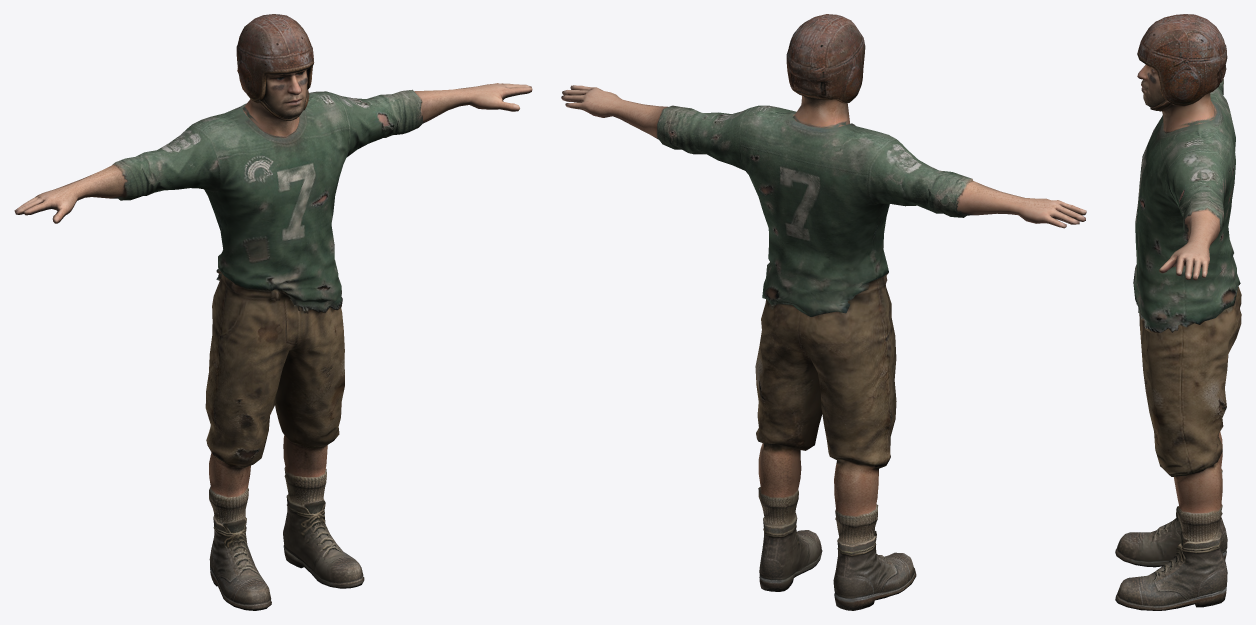
The model's file is football_player.fbx.
3 renders of one model, left to right at view 1: azimuth 30°, elevation 25°; view 2: azimuth 150°, elevation 25°; view 3: azimuth 270°, elevation 25°, orthographic.
Parts seen in each view (by area): view 1: tripo_node_3923c9d5; view 2: tripo_node_3923c9d5; view 3: tripo_node_3923c9d5.
Boxes of the visible parts, <box> form: tripo_node_3923c9d5: <box>14,14,532,610</box>; tripo_node_3923c9d5: <box>561,14,1086,610</box>; tripo_node_3923c9d5: <box>1115,14,1241,610</box>.
Bounding box in the file's own units: 0.9644 × 0.9995 × 0.2026.
Materials: 1 (1 with a texture image).
